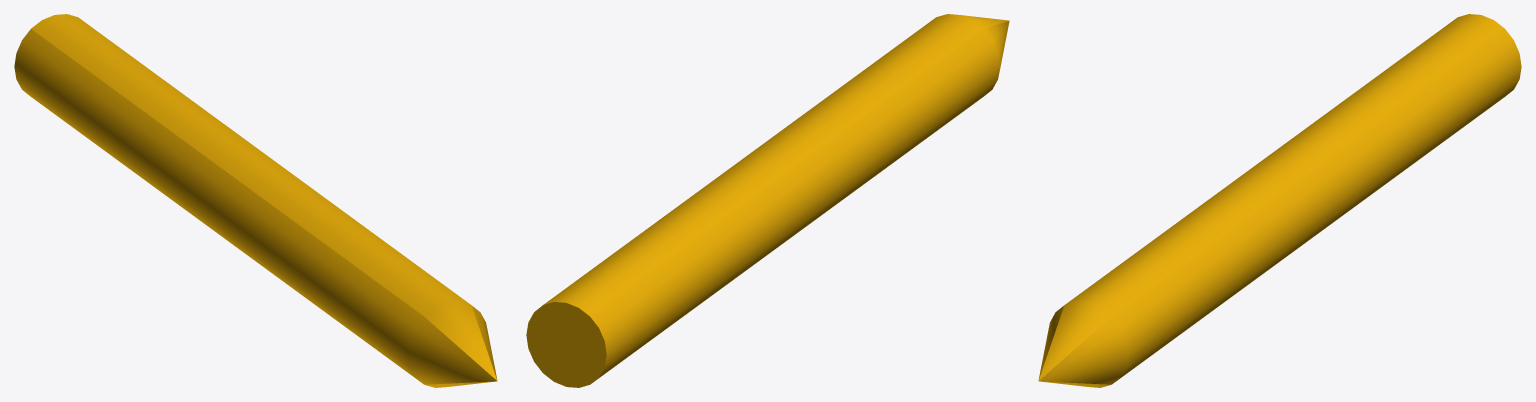
The model's file is Ing_Pencil.fbx.
3 renders of one model, left to right at view 1: azimuth 30°, elevation 25°; view 2: azimuth 150°, elevation 25°; view 3: azimuth 330°, elevation 25°, orthographic.
Visible parts, largest first — view 1: Ing_Pencil_low; view 2: Ing_Pencil_low; view 3: Ing_Pencil_low.
Part boxes in pixels (x1,y1,x2,y2): Ing_Pencil_low: (14, 14, 497, 387); Ing_Pencil_low: (526, 14, 1009, 387); Ing_Pencil_low: (1038, 14, 1521, 387).
Bounding box in the file's own units: 3.45 × 3.45 × 32.89.
